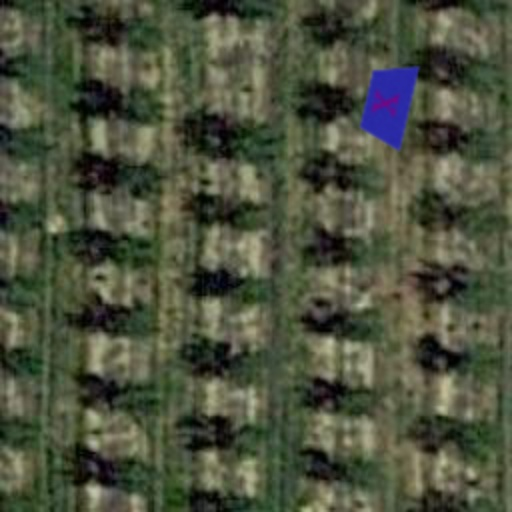trapezoid: (334, 50, 442, 158)
